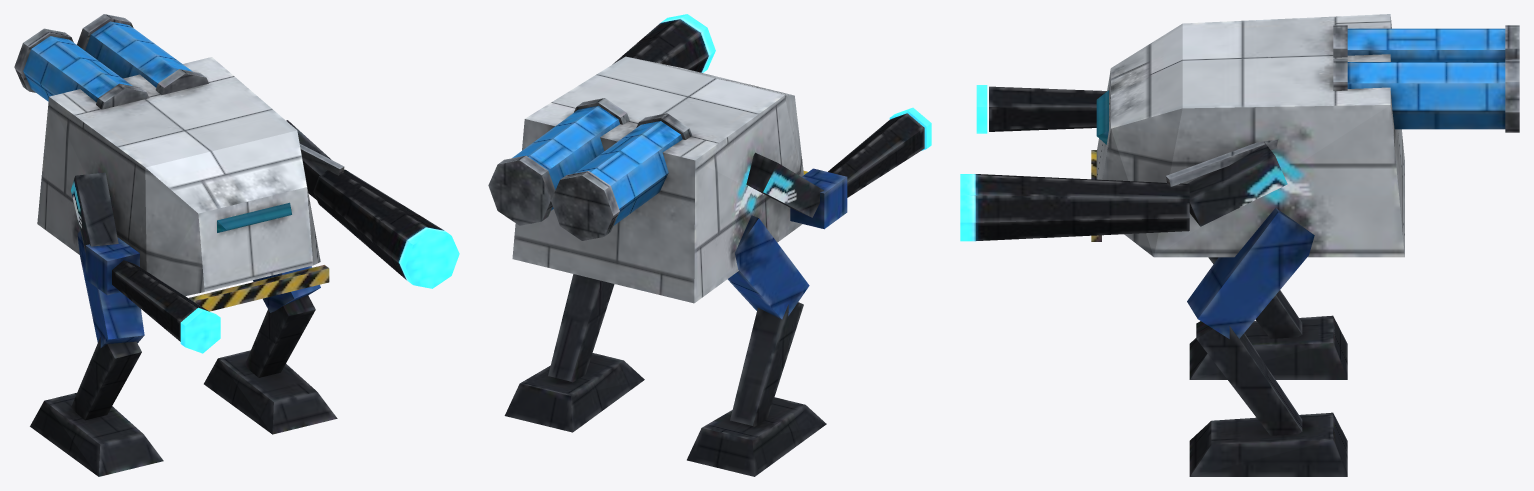
The model's file is u_pyro2_w.glb.
3 views of the same model, side by side, from view 1: azimuth 30°, elevation 25°; view 2: azimuth 150°, elevation 25°; view 3: azimuth 270°, elevation 25° (orthographic). The views are drawn at different scales.
Parts seen in each view (by area): view 1: u_pyro2_w; view 2: u_pyro2_w; view 3: u_pyro2_w.
Boxes of the visible parts, x1,y1,x2,y2 form: u_pyro2_w: (14, 14, 459, 476); u_pyro2_w: (488, 14, 931, 476); u_pyro2_w: (960, 14, 1519, 476).
Bounding box in the file's own units: 1.14 × 1.31 × 1.8.
Materials: 1 (1 with a texture image).
